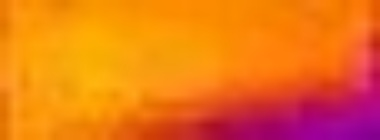Shadow: (137, 85, 380, 139)
